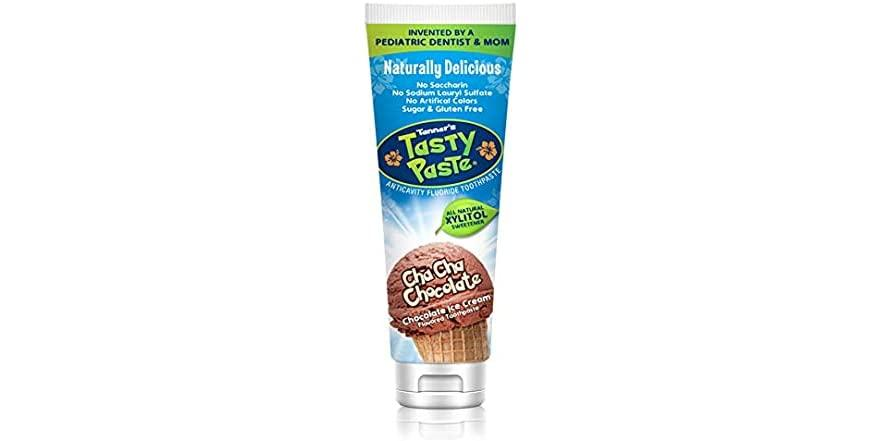toothpaste: (371, 2, 531, 426)
